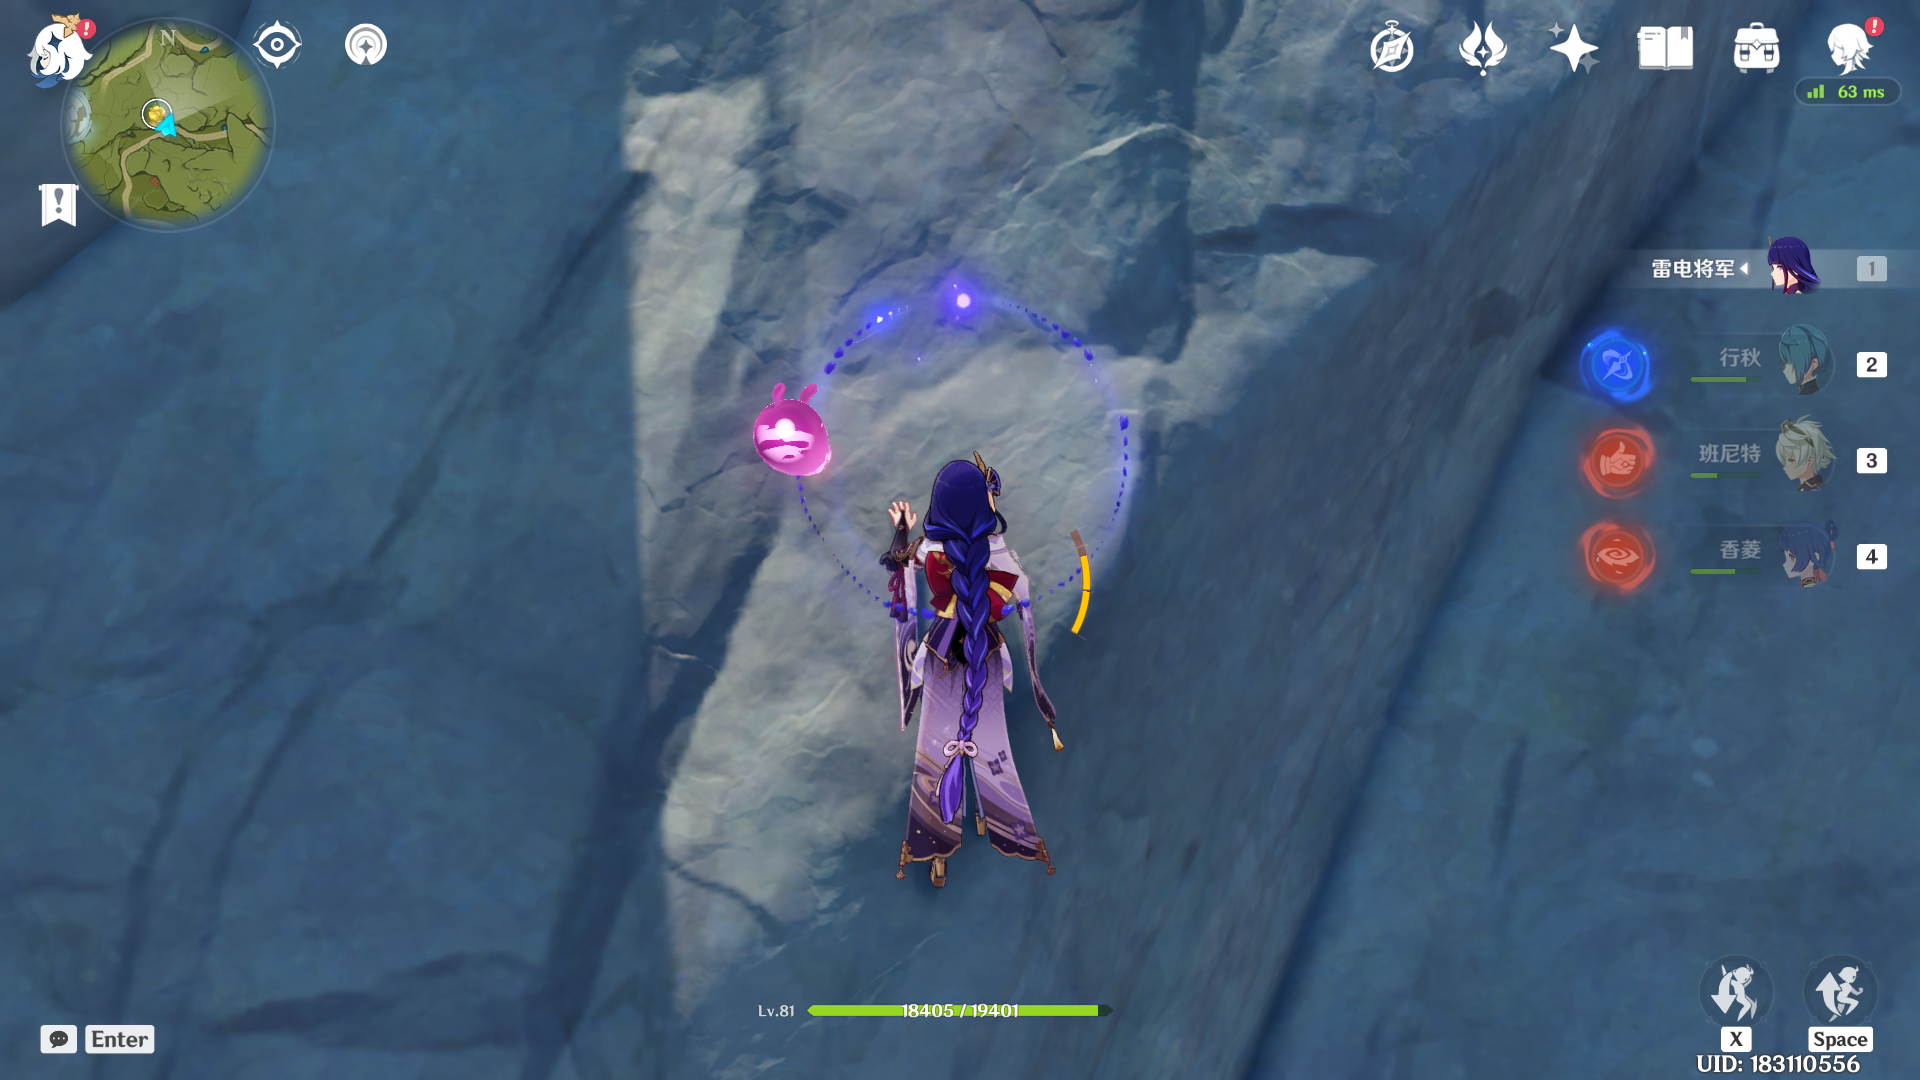character: (845, 381, 1137, 949)
